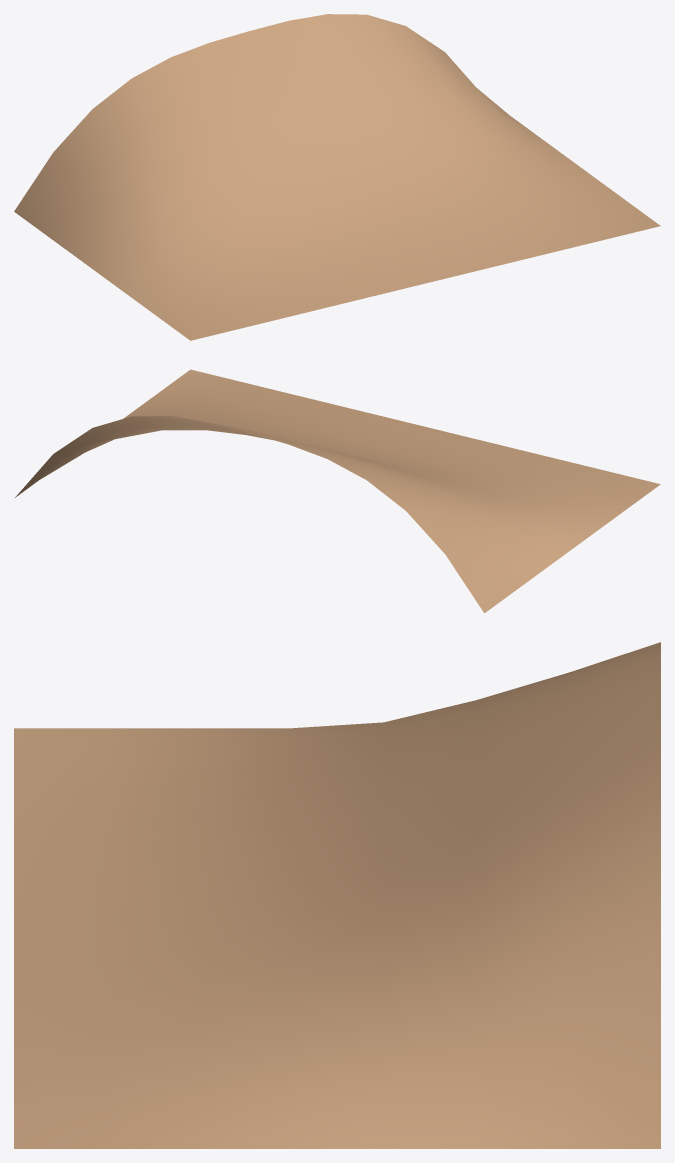
Rendered from sand_wall.glb.
3 views of the same model, one above another, from view 1: azimuth 30°, elevation 25°; view 2: azimuth 150°, elevation 25°; view 3: azimuth 270°, elevation 25° (orthographic). The views are drawn at different scales.
Parts seen in each view (by area): view 1: sand_wall; view 2: sand_wall; view 3: sand_wall.
Part boxes in pixels (x1,y1,x2,y2): sand_wall: (14,14,660,340); sand_wall: (15,369,660,613); sand_wall: (14,642,660,1148).
Size of the model in its own units: 2 by 0.503 by 1.3.
